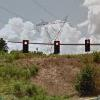Traffic light: (18, 32, 92, 61)
